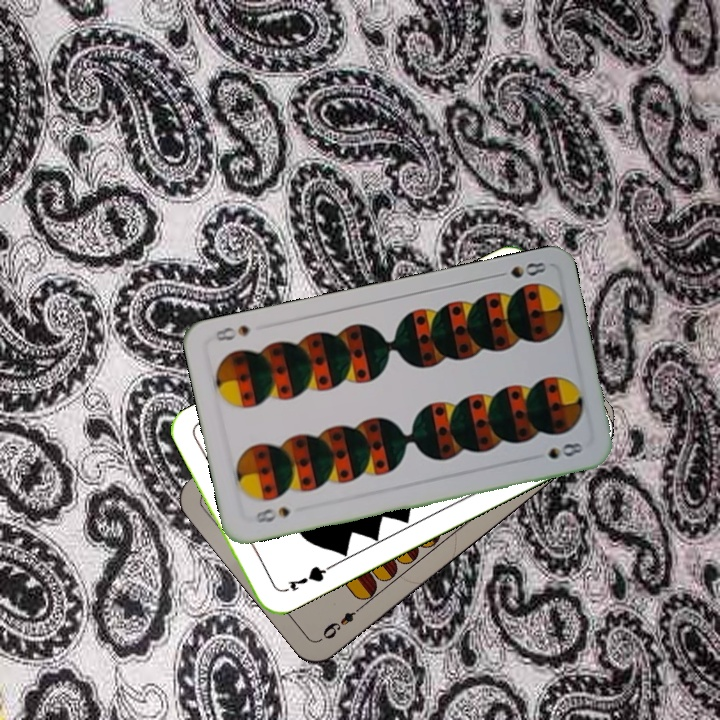E9: (318, 601, 366, 642)
G7: (277, 562, 333, 595)
S8: (490, 258, 549, 281), (252, 503, 293, 526)
